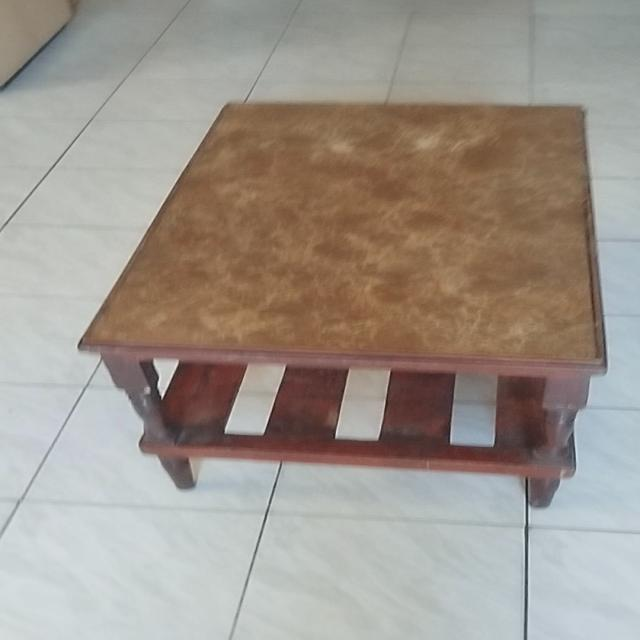table: (72, 97, 610, 521)
